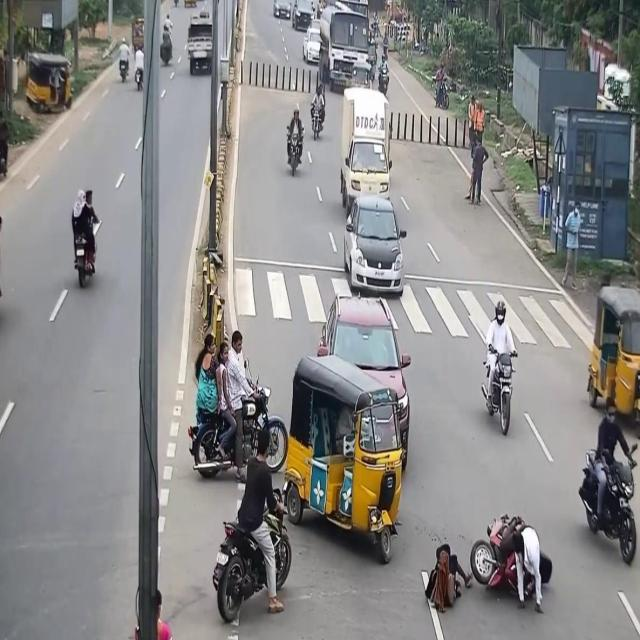accident: (418, 496, 558, 638)
non_accident: (337, 81, 407, 303), (300, 3, 386, 91), (267, 0, 314, 36), (179, 0, 209, 24)
